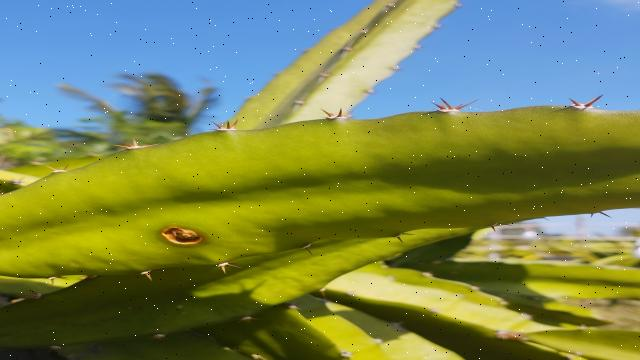stemcanker: (157, 221, 208, 252)
